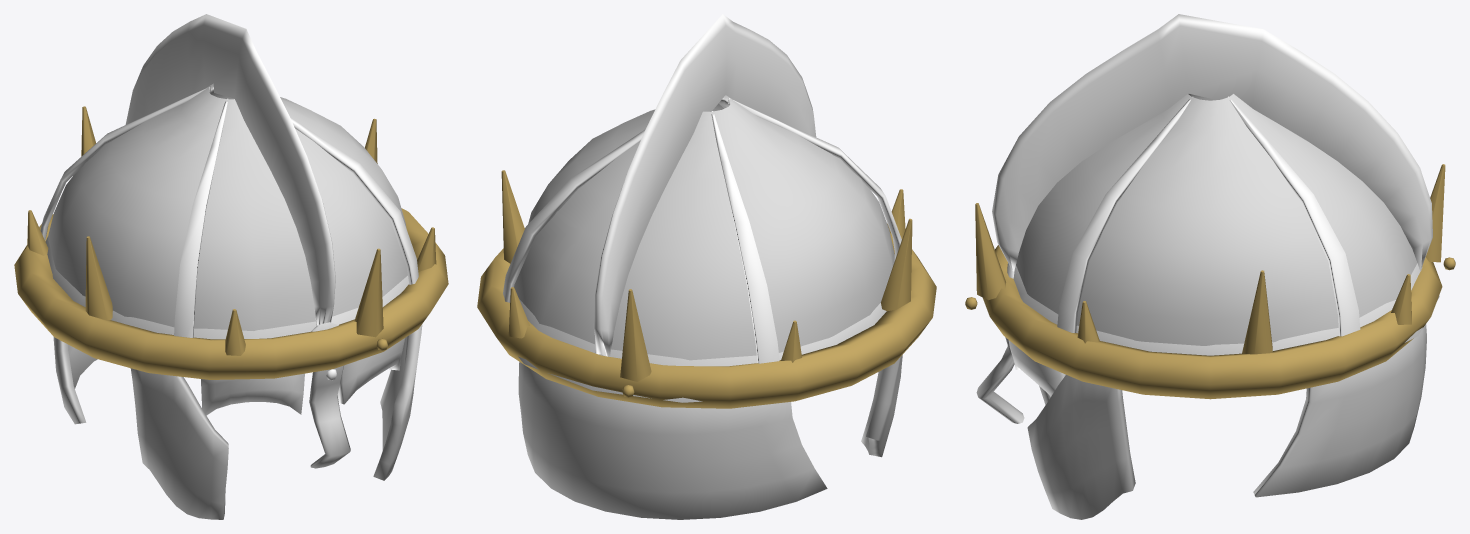
File: helm-warden-crowned.glb
3 renders of one model, left to right at view 1: azimuth 30°, elevation 25°; view 2: azimuth 150°, elevation 25°; view 3: azimuth 270°, elevation 25°, orthographic. The views are drawn at different scales.
Parts seen in each view (by area): view 1: helm-warden-crowned; view 2: helm-warden-crowned; view 3: helm-warden-crowned.
Boxes of the visible parts, box(x1,y1,x2,y2) form: helm-warden-crowned: box(14, 14, 448, 519); helm-warden-crowned: box(477, 14, 936, 519); helm-warden-crowned: box(965, 14, 1455, 519).
Size of the model in its own units: 0.286 by 0.3094 by 0.3021.
